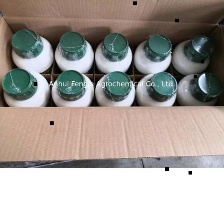book: (0, 0, 224, 163)
insecticide: (6, 24, 60, 83), (0, 65, 55, 121), (170, 67, 223, 115), (164, 31, 217, 79), (91, 30, 134, 86), (48, 67, 97, 115), (51, 27, 97, 75), (92, 70, 139, 116), (131, 29, 173, 75), (132, 71, 177, 111)
